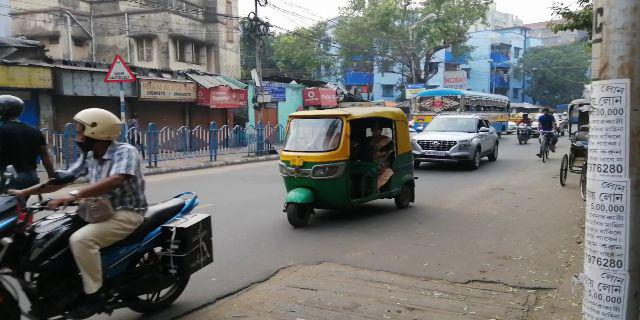Autorickshaw: (278, 109, 418, 232)
Bus: (416, 87, 513, 131)
Car: (423, 111, 505, 172)
Cycle: (537, 109, 557, 162)
Motorbike: (2, 108, 217, 311)
